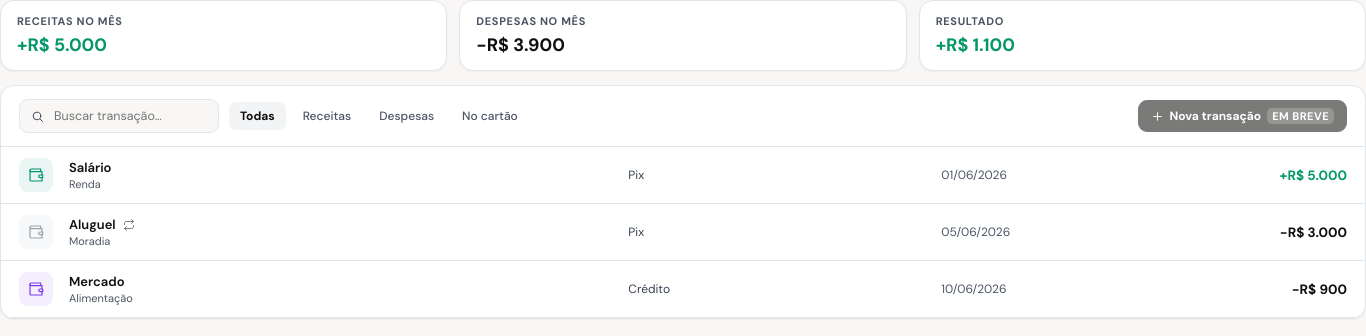
ConsultantClientTransactionsTab › busca por descrição
The width and height of the screenshot is (1366, 336).
Type "merc" into the field labelled "Buscar transação". click: (130, 116)
box: [52,107,207,125]
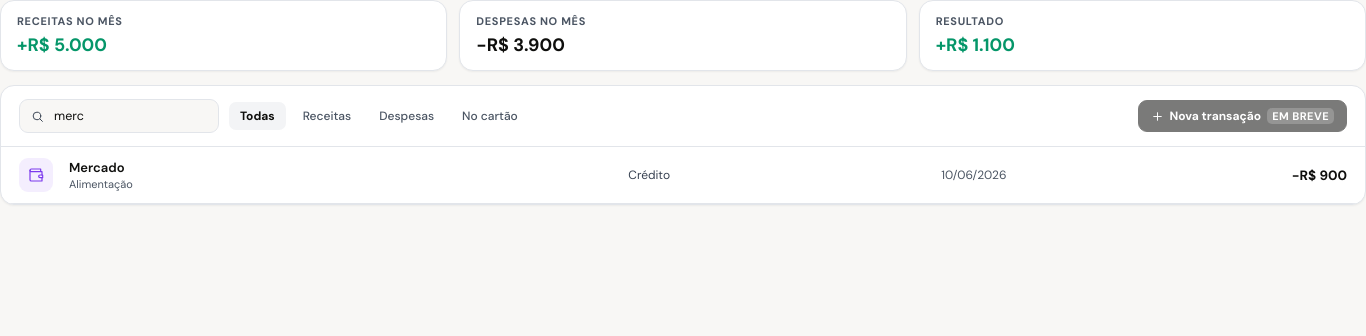
Expected: the text "Mercado" is shown, [69,159,124,176]
Expected: the text "Salário" is gone
